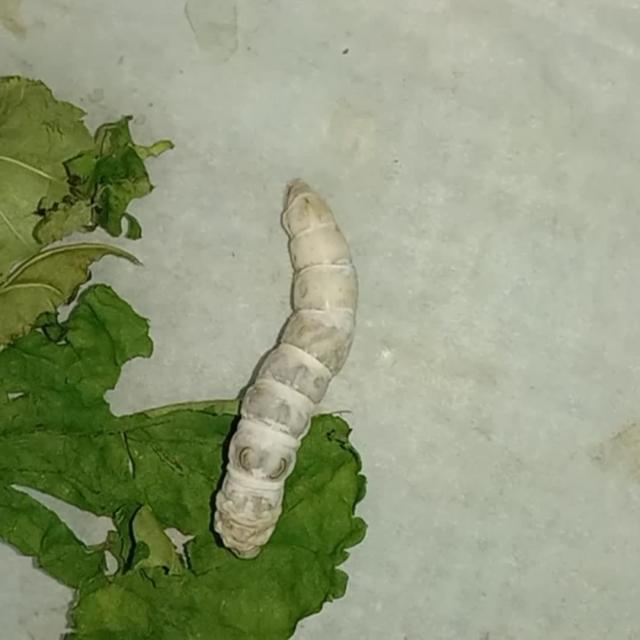Grasserie: (189, 153, 413, 584)
